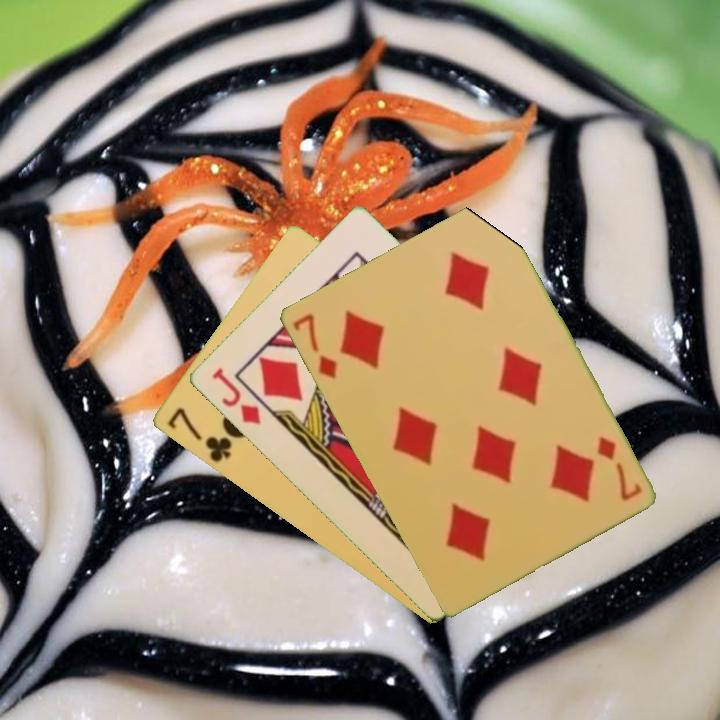7c: (163, 404, 235, 466)
7d: (592, 432, 644, 504), (289, 309, 340, 382)
Jd: (208, 364, 264, 428)
